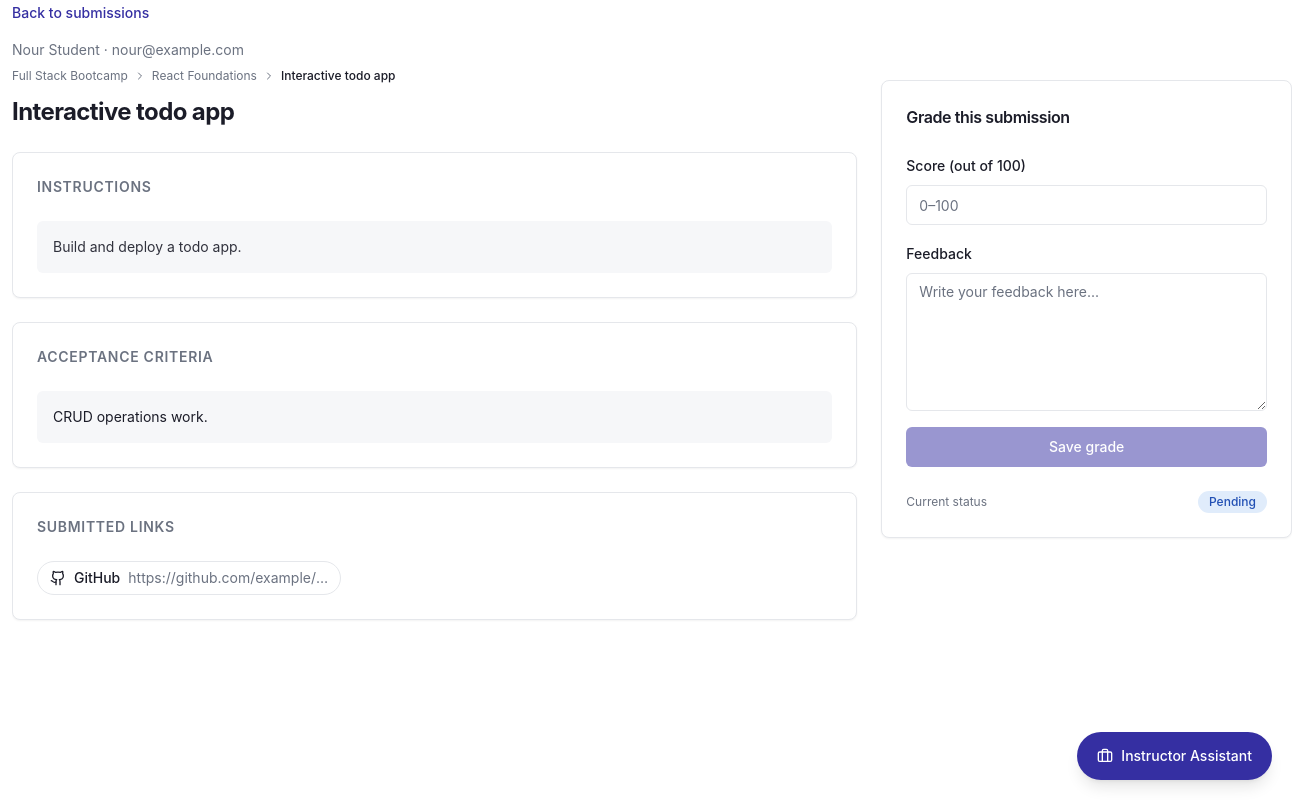
Test: ReviewSubmissionPage › shows a meaningful grading API error
The image size is (1292, 800).
Expected: the text "Nour Student · nour@example.com" is shown, [12,41,244,58]
In the number field labelled "Score (out of 100)": (1087, 205) [906,185,1267,225], type "85"
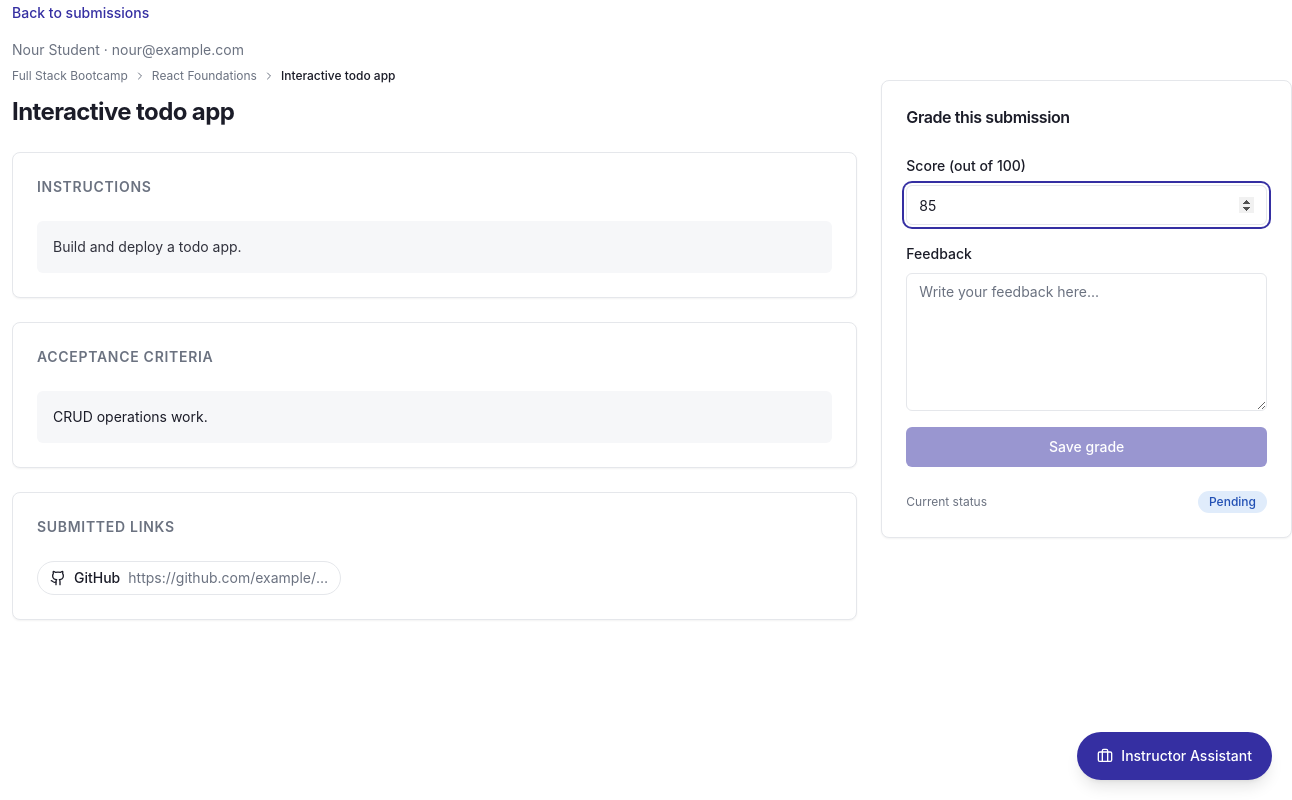
In the text box labelled "Feedback": (1087, 342) [906,273,1267,411], type "Good implementation"
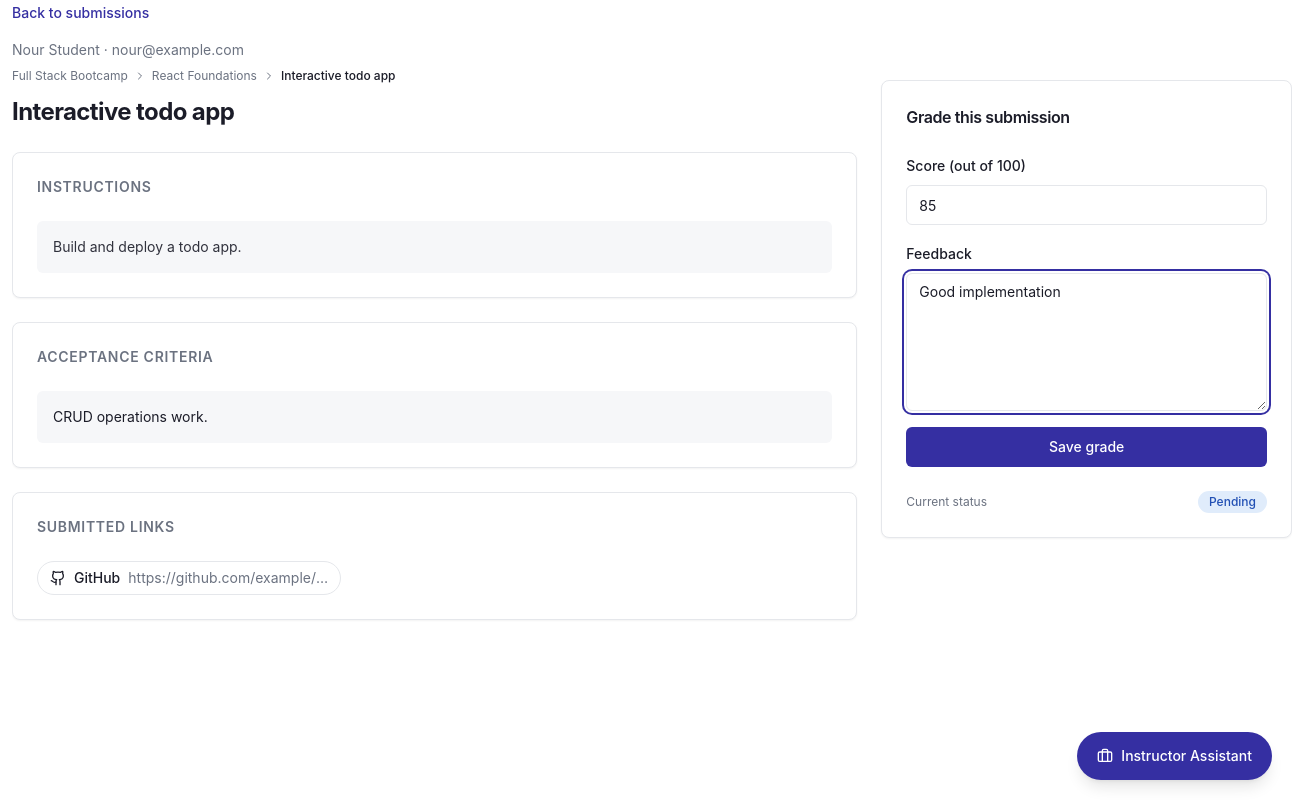
Click the button "Save grade": (1087, 447) [906,427,1267,467]
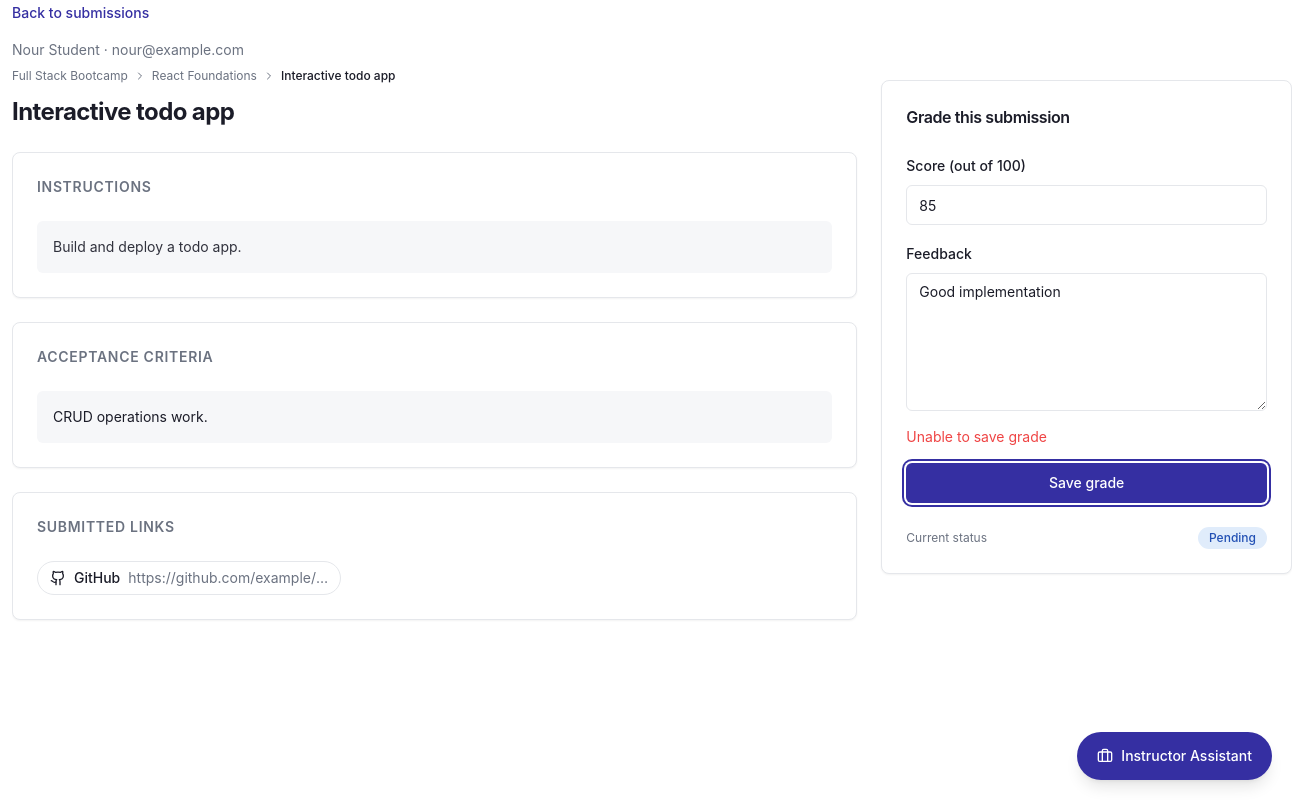
Expected: the text "Pending" is shown, [1198,527,1267,549]
Expected: the message reads "Unable to save grade", [906,428,1047,445]
